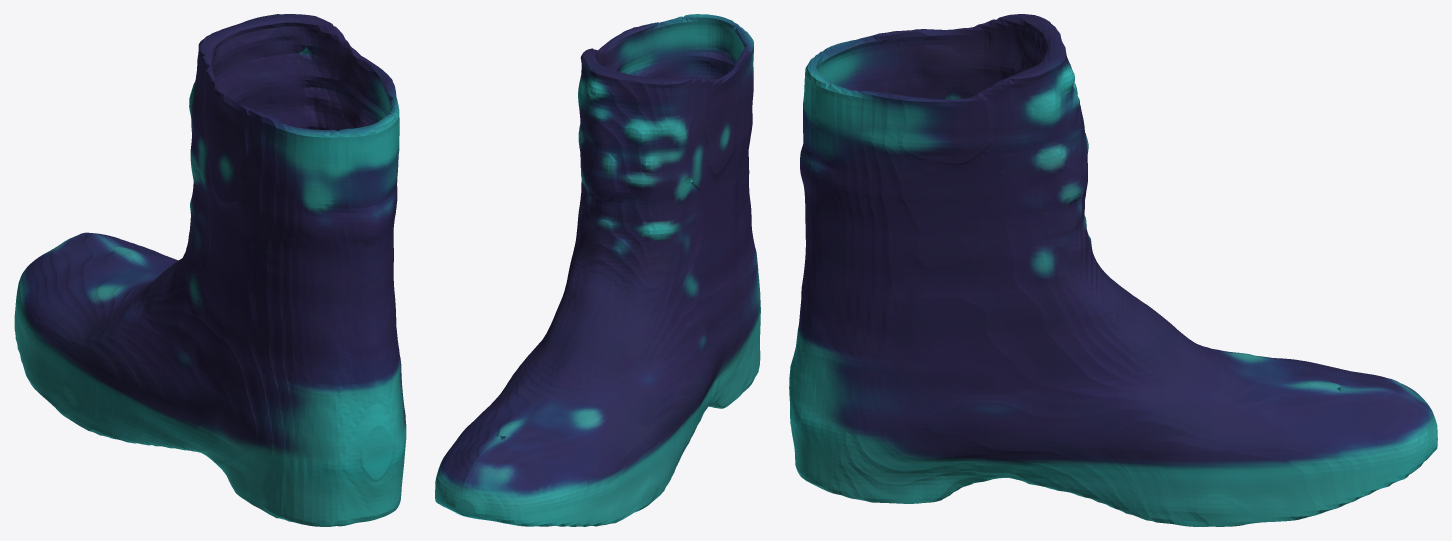
3 renders of one model, left to right at view 1: azimuth 30°, elevation 25°; view 2: azimuth 150°, elevation 25°; view 3: azimuth 270°, elevation 25°, orthographic. The views are drawn at different scales.
Parts seen in each view (by area): view 1: tmpflo_b2e5.ply; view 2: tmpflo_b2e5.ply; view 3: tmpflo_b2e5.ply.
Boxes of the visible parts, x1,y1,x2,y2 form: tmpflo_b2e5.ply: (14,14,406,526); tmpflo_b2e5.ply: (435,14,760,526); tmpflo_b2e5.ply: (789,14,1437,526).
Bounding box in the file's own units: 0.7034 × 1.49 × 1.98.
